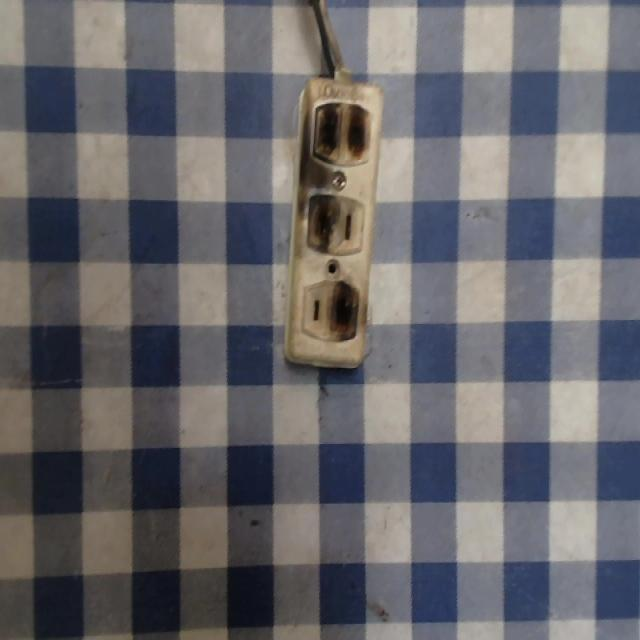-: (301, 95, 377, 169), (299, 183, 337, 256), (326, 281, 360, 347)
